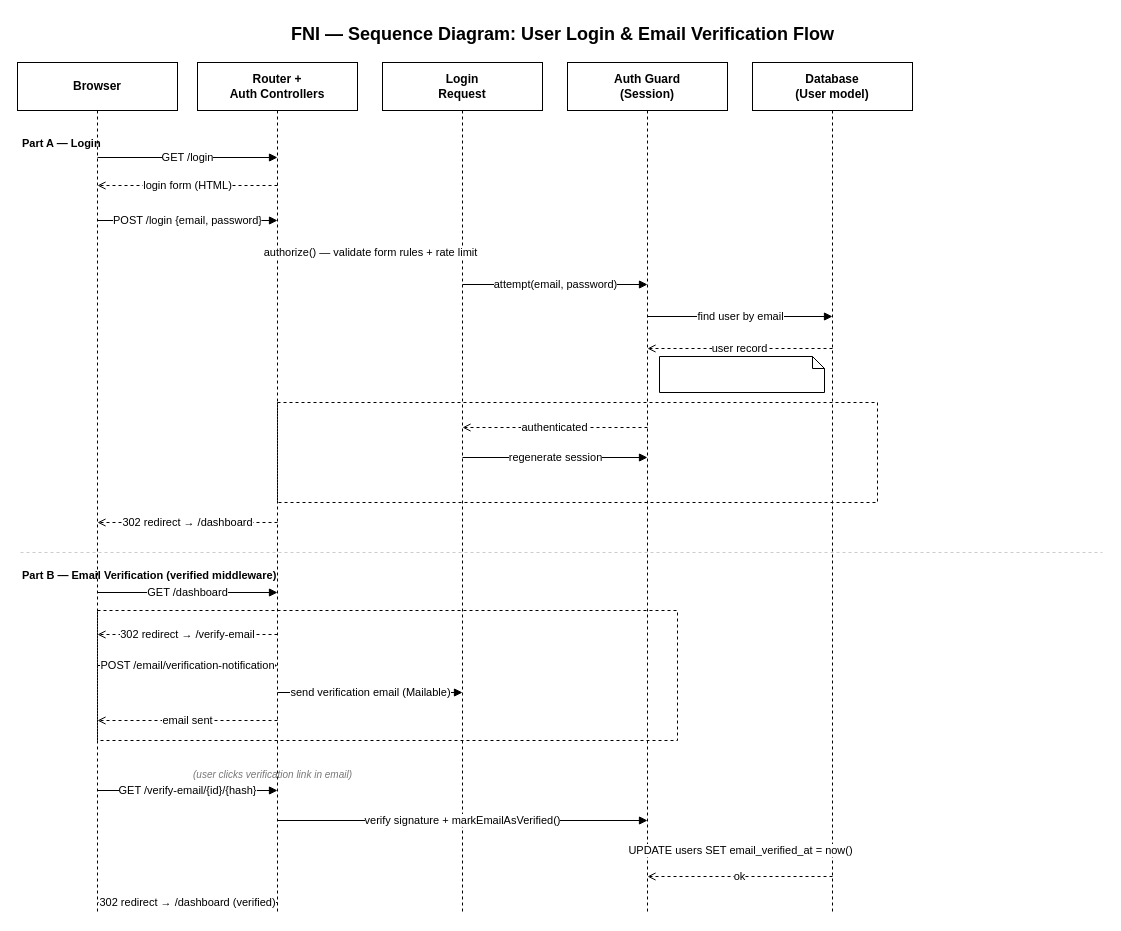
Image size: 1121x931. Some labels were removed from this diagram. The centre of each missing label's shape, as x and y in pixels:
alt [is_active = true] / [is_active = false → abort 403]: [577,452]
check password hash check is_active = true: [741,374]
opt [email_verified_at = null]: [387,675]
